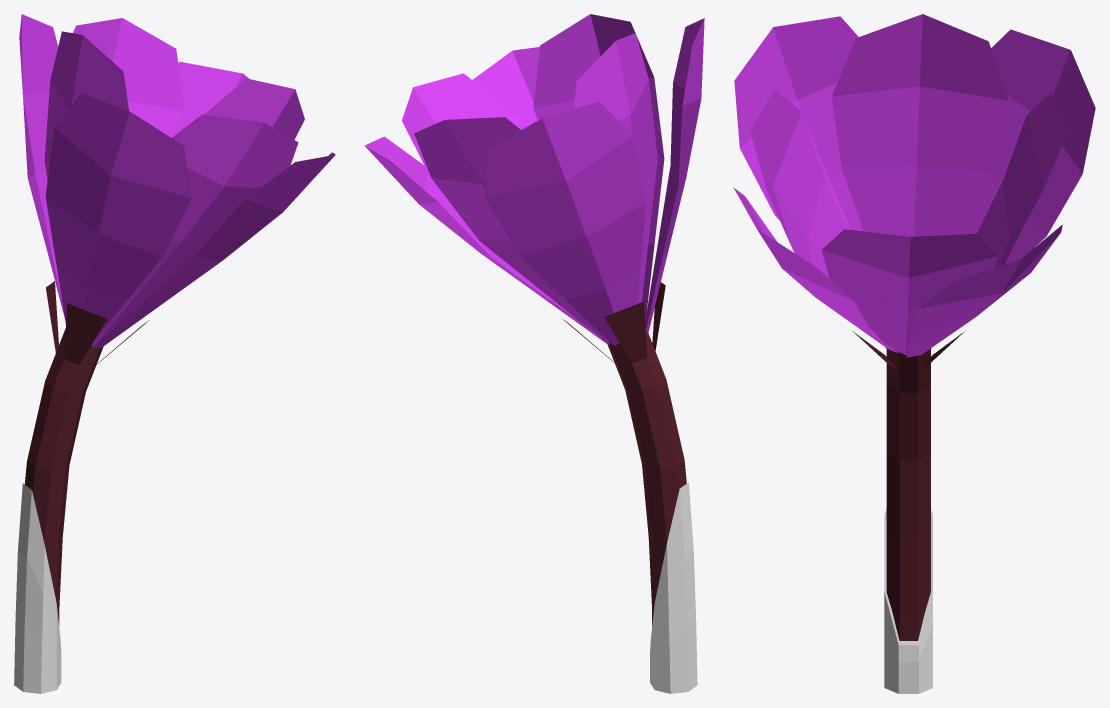
3 renders of one model, left to right at view 1: azimuth 30°, elevation 25°; view 2: azimuth 150°, elevation 25°; view 3: azimuth 270°, elevation 25°, orthographic. The views are drawn at different scales.
Parts seen in each view (by area): view 1: plane (×8), cylinder (×2), tube; view 2: plane (×8), cylinder (×2), tube; view 3: plane (×8), cylinder (×2).
Boxes of the visible parts, <box> form: plane (×8): <box>19,14,335,348</box>; cylinder (×2): <box>14,328,103,693</box>; tube: <box>46,281,149,366</box>; plane (×8): <box>364,14,704,345</box>; cylinder (×2): <box>607,326,697,693</box>; tube: <box>562,282,665,364</box>; plane (×8): <box>733,14,1095,357</box>; cylinder (×2): <box>884,348,932,693</box>.
Size of the model in its own units: 0.5149 by 1.09 by 0.5116.
Materials: 1 (1 with a texture image).
